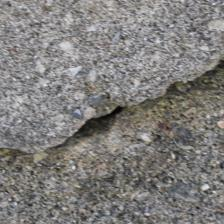Crack: (4, 30, 218, 131)
